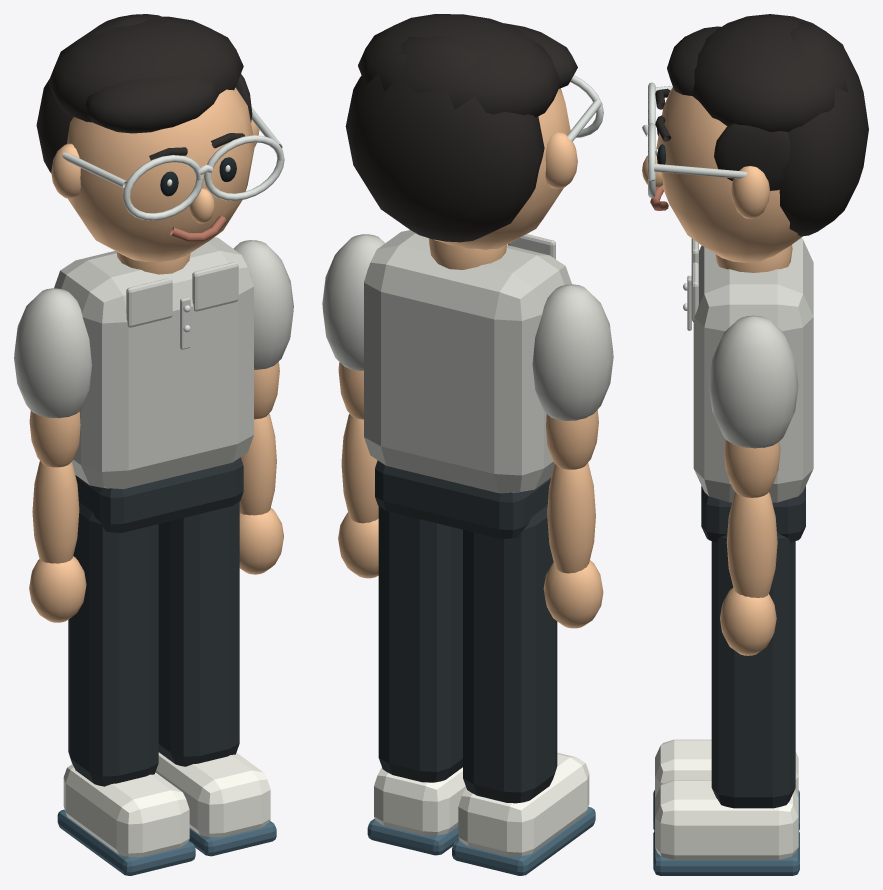
Rendered from dad.glb.
3 views of the same model, side by side, from view 1: azimuth 30°, elevation 25°; view 2: azimuth 150°, elevation 25°; view 3: azimuth 270°, elevation 25° (orthographic). The views are drawn at different scales.
Visible parts, largest first — view 1: FamilyRoot_Geometry, Leg_L_Geometry, Leg_R_Geometry, Arm_L_Geometry, Elbow_L_Geometry, Arm_R_Geometry, Elbow_R_Geometry; view 2: FamilyRoot_Geometry, Leg_L_Geometry, Leg_R_Geometry, Arm_L_Geometry, Elbow_L_Geometry, Arm_R_Geometry, Elbow_R_Geometry; view 3: FamilyRoot_Geometry, Leg_R_Geometry, Arm_R_Geometry, Elbow_R_Geometry, Leg_L_Geometry.
Part boxes in pixels (left/top/right/bottom): FamilyRoot_Geometry: left=36, top=14, right=284, bottom=533; Leg_L_Geometry: left=57, top=502, right=195, bottom=875; Leg_R_Geometry: left=155, top=501, right=276, bottom=856; Arm_L_Geometry: left=14, top=288, right=91, bottom=467; Elbow_L_Geometry: left=29, top=461, right=86, bottom=622; Arm_R_Geometry: left=233, top=240, right=293, bottom=419; Elbow_R_Geometry: left=239, top=413, right=283, bottom=574; FamilyRoot_Geometry: left=345, top=14, right=603, bottom=539; Leg_L_Geometry: left=452, top=505, right=595, bottom=875; Leg_R_Geometry: left=367, top=506, right=466, bottom=855; Arm_L_Geometry: left=532, top=284, right=613, bottom=469; Elbow_L_Geometry: left=543, top=463, right=603, bottom=628; Arm_R_Geometry: left=322, top=234, right=384, bottom=419; Elbow_R_Geometry: left=338, top=414, right=378, bottom=578; FamilyRoot_Geometry: left=642, top=14, right=868, bottom=542; Leg_R_Geometry: left=653, top=533, right=799, bottom=875; Arm_R_Geometry: left=709, top=315, right=798, bottom=497; Elbow_R_Geometry: left=720, top=492, right=777, bottom=655; Leg_L_Geometry: left=653, top=739, right=799, bottom=830.
Size of the model in its own units: 1.06 by 2.98 by 0.758.
